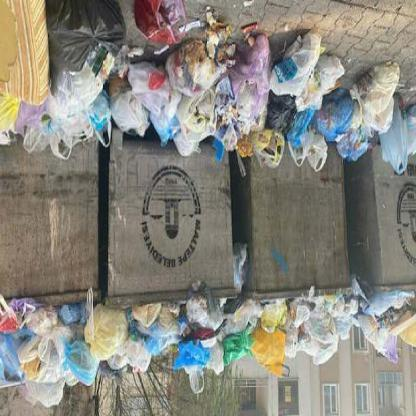Garbage: (1, 0, 415, 173), (1, 295, 415, 415), (47, 1, 136, 84), (274, 22, 330, 113), (200, 1, 247, 71), (51, 62, 109, 118), (10, 327, 59, 393), (172, 341, 224, 399), (247, 332, 295, 393), (76, 303, 130, 355), (344, 61, 400, 110), (65, 340, 107, 396), (319, 97, 359, 153), (231, 74, 264, 141), (166, 44, 210, 94), (299, 306, 333, 368), (356, 312, 400, 358), (383, 108, 411, 176), (157, 122, 200, 154), (120, 333, 150, 371), (304, 314, 338, 340)
